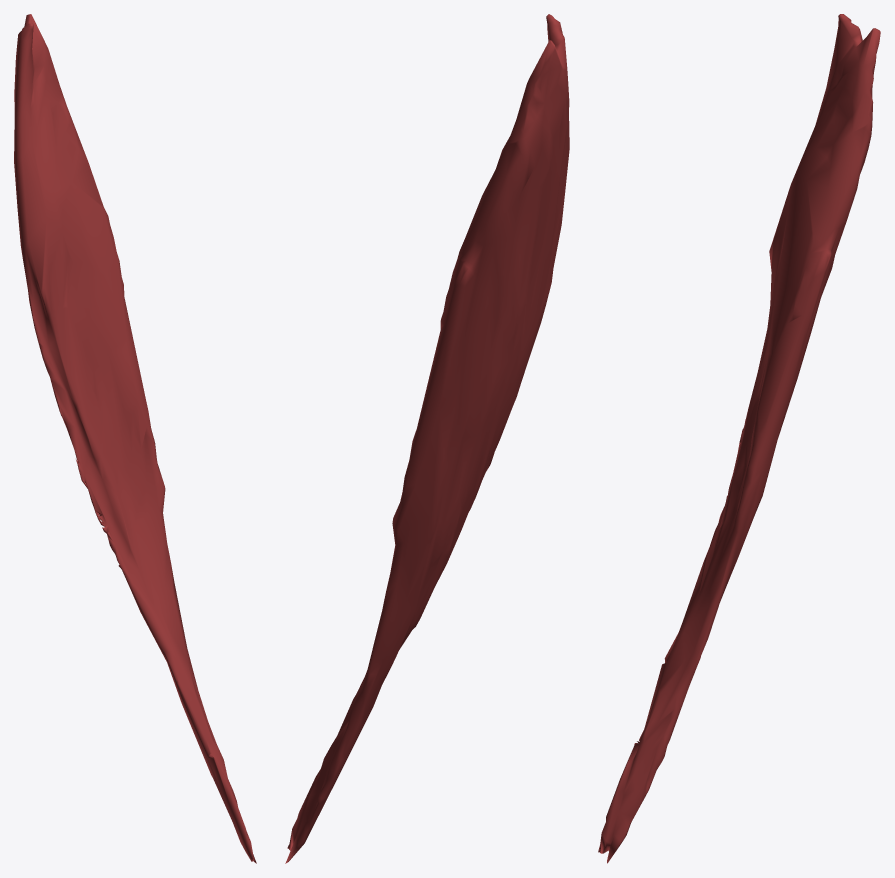
File: ulnar-head-of-flexor-carpi-ulnaris-l.glb
3 views of the same model, side by side, from view 1: azimuth 30°, elevation 25°; view 2: azimuth 210°, elevation 25°; view 3: azimuth 270°, elevation 25° (orthographic). The views are drawn at different scales.
Parts seen in each view (by area): view 1: Ulnar head of flexor carpi ulnaris.l; view 2: Ulnar head of flexor carpi ulnaris.l; view 3: Ulnar head of flexor carpi ulnaris.l.
Boxes of the visible parts, x1,y1,x2,y2 form: Ulnar head of flexor carpi ulnaris.l: (14, 14, 256, 863); Ulnar head of flexor carpi ulnaris.l: (285, 14, 569, 863); Ulnar head of flexor carpi ulnaris.l: (598, 14, 880, 863).
Size of the model in its own units: 0.0416 by 0.2201 by 0.0708.
